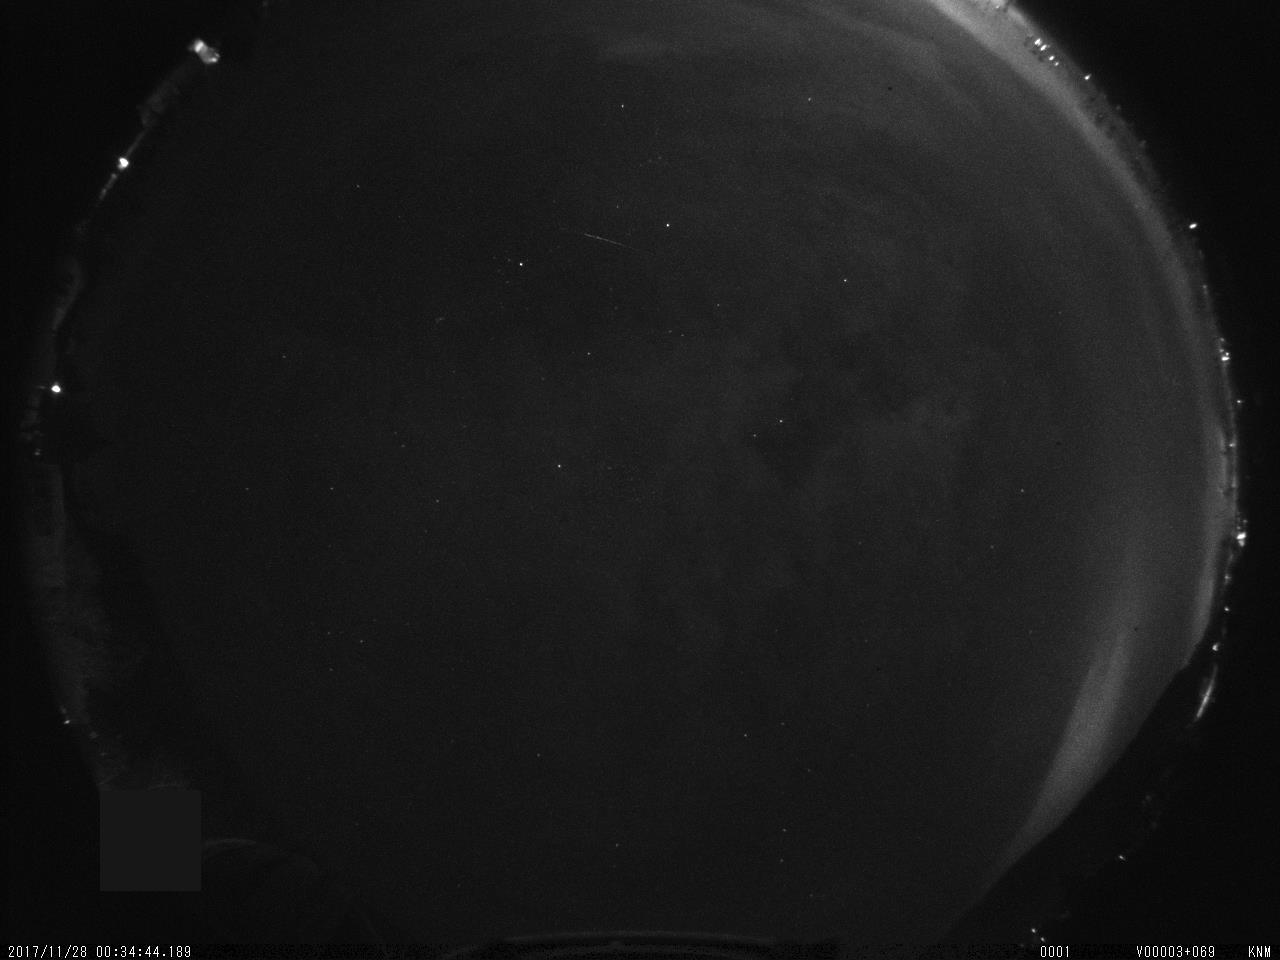meteor: (548, 218, 652, 260)
